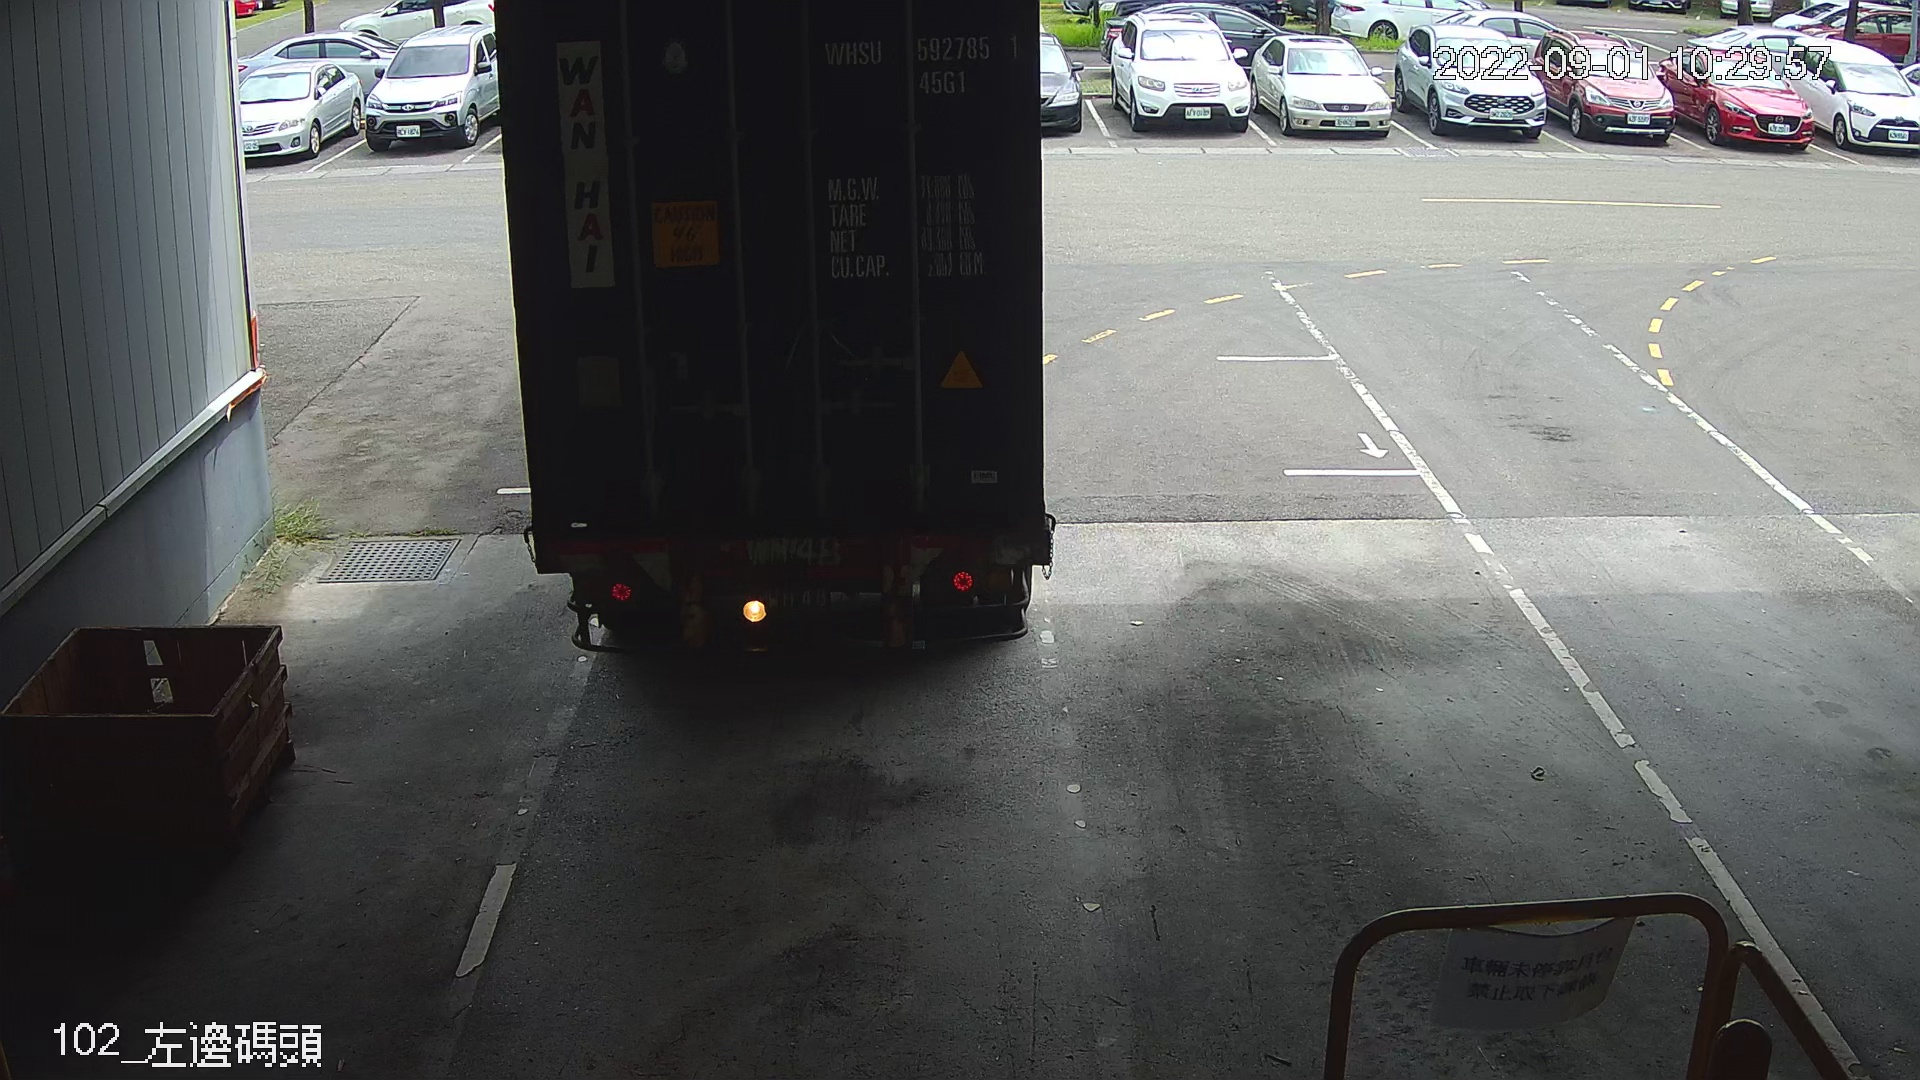container: (816, 30, 1029, 102)
